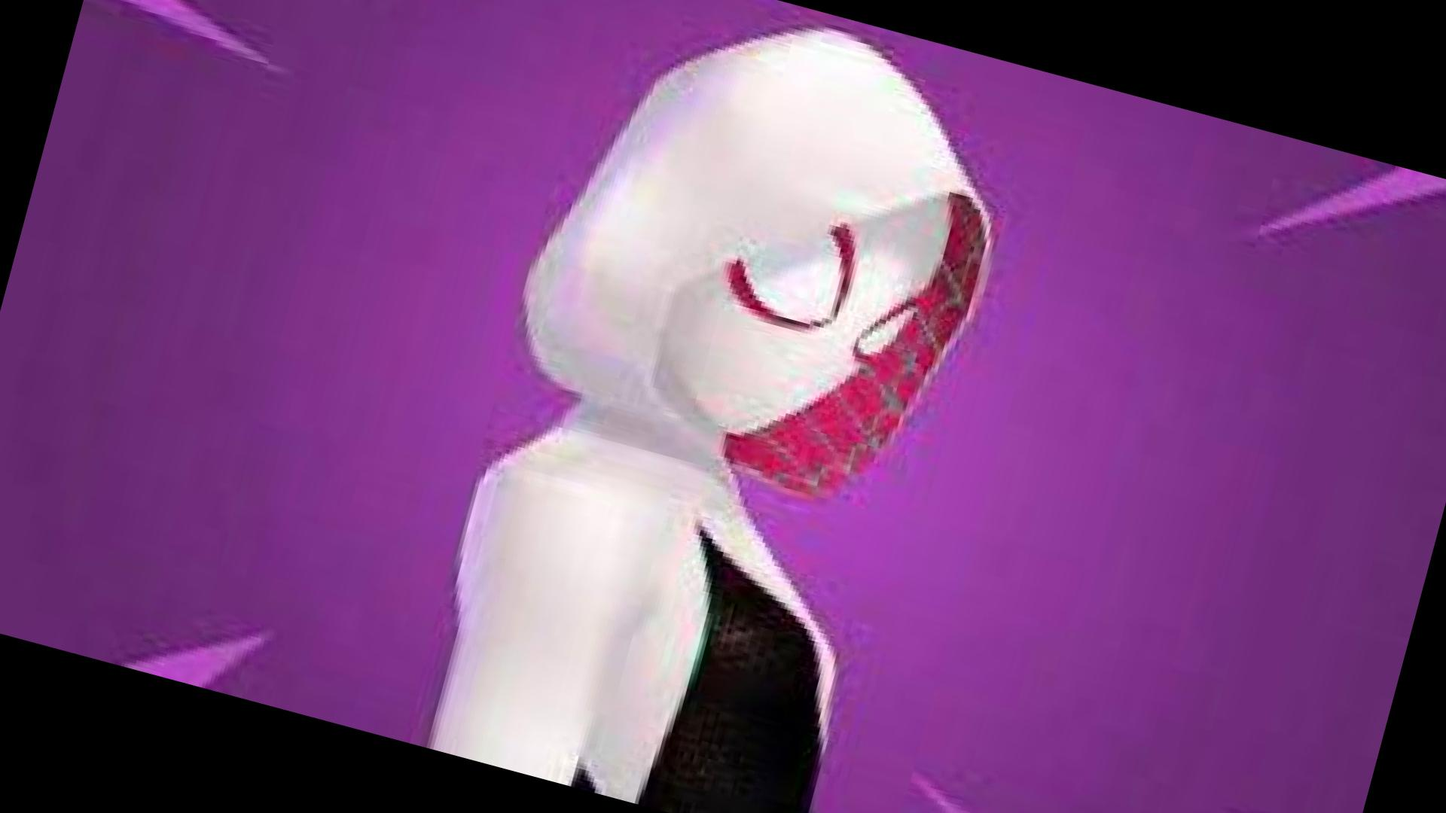player: (279, 0, 1087, 813)
